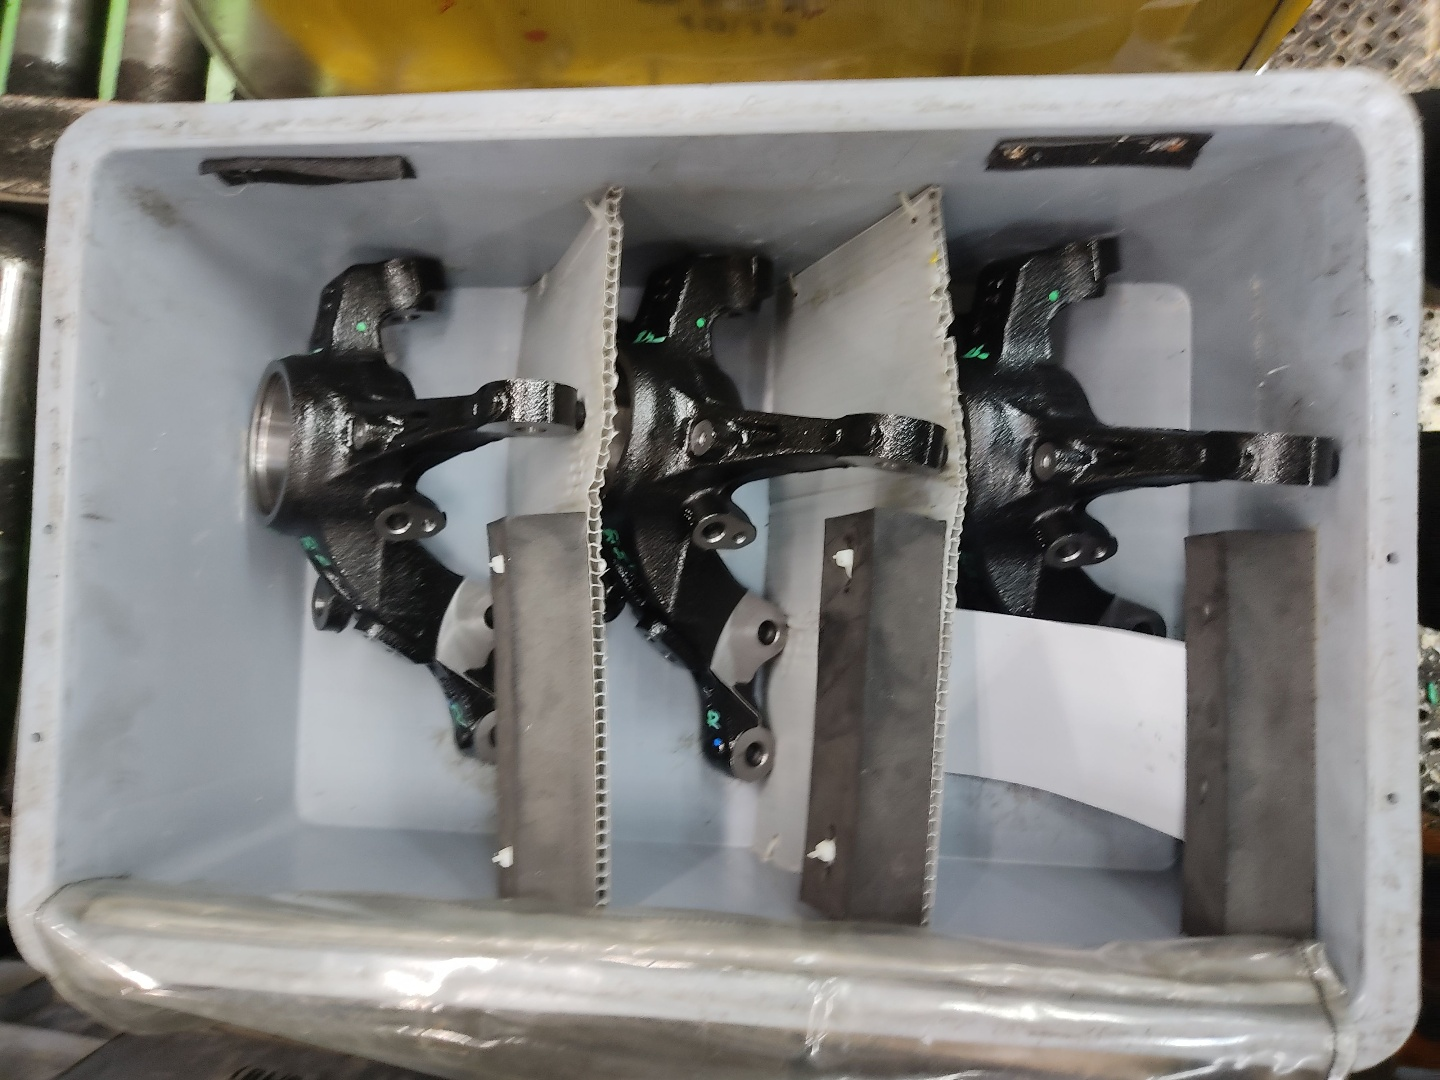abs-rh: (946, 220, 1349, 777), (596, 231, 951, 791), (237, 238, 592, 767)
